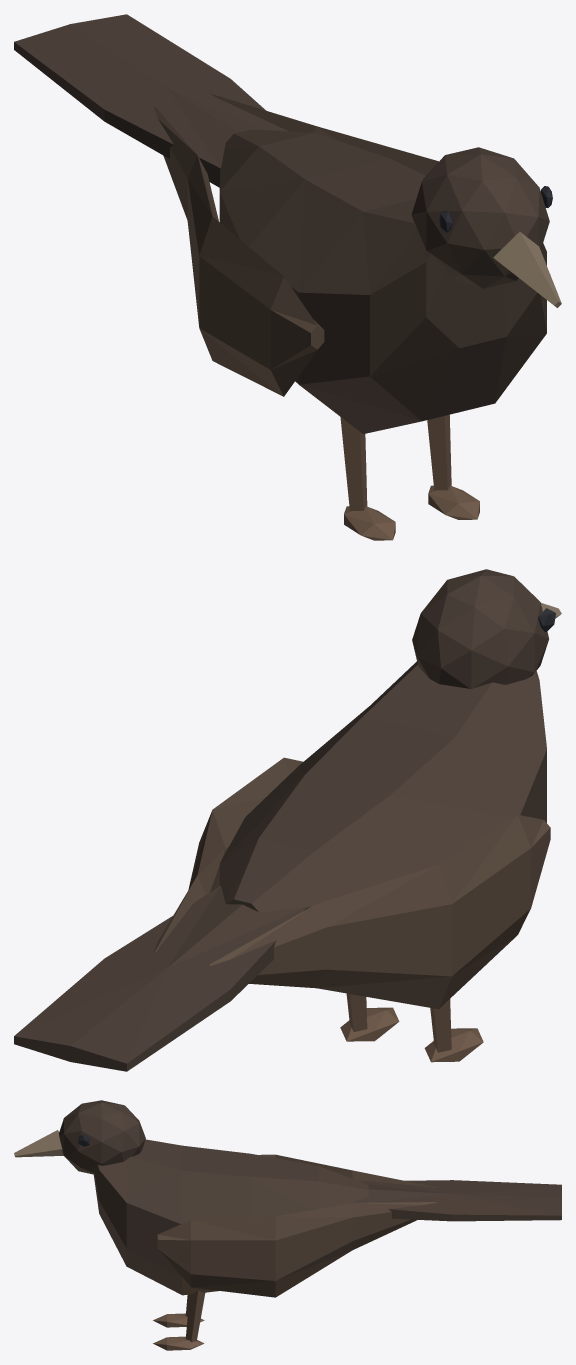
Rendered from Blackbird_Hen.fbx.
3 renders of one model, top to bottom at view 1: azimuth 30°, elevation 25°; view 2: azimuth 150°, elevation 25°; view 3: azimuth 270°, elevation 25°, orthographic. The views are drawn at different scales.
Visible parts, largest first — view 1: Blackbird_Hen_Body, Blackbird_Hen_WingR_Mesh, Blackbird_Hen_Head, Blackbird_Hen_WingL_Mesh; view 2: Blackbird_Hen_Body, Blackbird_Hen_WingR_Mesh, Blackbird_Hen_Head, Blackbird_Hen_WingL_Mesh; view 3: Blackbird_Hen_Body, Blackbird_Hen_WingL_Mesh, Blackbird_Hen_Head, Blackbird_Hen_WingR_Mesh.
Part boxes in pixels (x1,y1,x2,y2): Blackbird_Hen_Body: [14, 14, 546, 540]; Blackbird_Hen_WingR_Mesh: [154, 106, 324, 396]; Blackbird_Hen_Head: [411, 147, 561, 307]; Blackbird_Hen_WingL_Mesh: [208, 93, 550, 274]; Blackbird_Hen_Body: [14, 661, 546, 1071]; Blackbird_Hen_WingR_Mesh: [208, 814, 550, 1009]; Blackbird_Hen_Head: [412, 569, 561, 688]; Blackbird_Hen_WingL_Mesh: [154, 757, 303, 952]; Blackbird_Hen_Body: [93, 1139, 561, 1350]; Blackbird_Hen_WingL_Mesh: [157, 1202, 436, 1297]; Blackbird_Hen_Head: [14, 1100, 145, 1174]; Blackbird_Hen_WingR_Mesh: [259, 1154, 436, 1187].
Bounding box in the file's own units: 0.1005 × 0.3264 × 0.1538.
